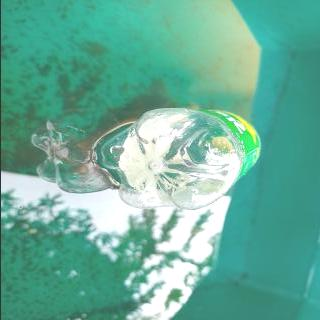bottle: (93, 106, 262, 212)
